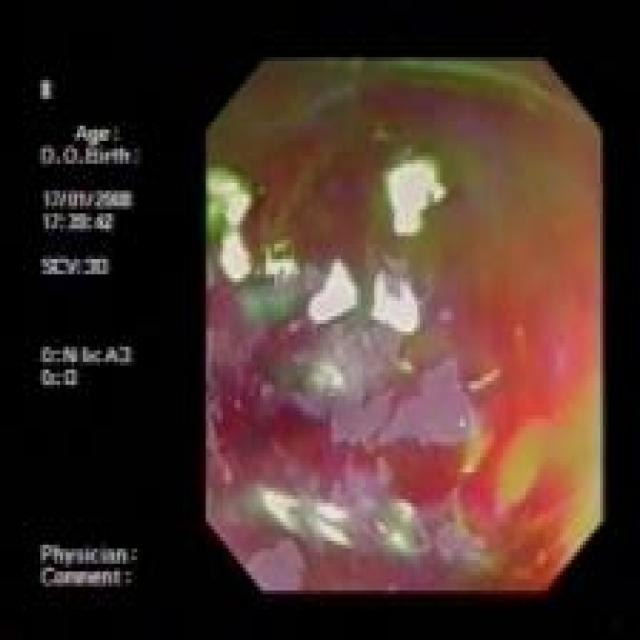color misalignment: (206, 60, 602, 591), (36, 77, 144, 603), (303, 61, 554, 142), (368, 146, 459, 250)
